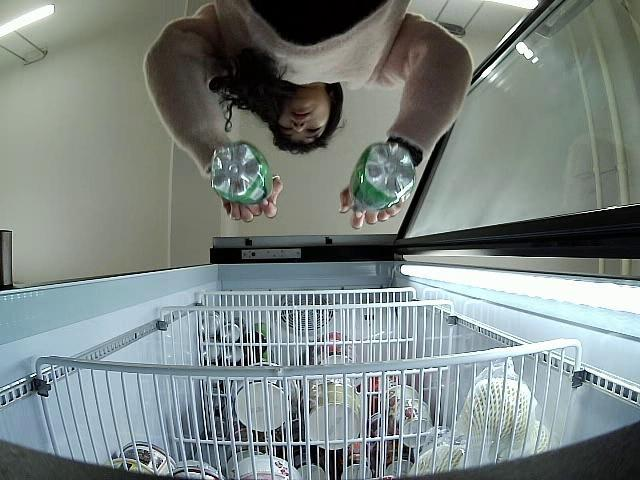18_trevi: (349, 142, 416, 215), (209, 142, 270, 206)
